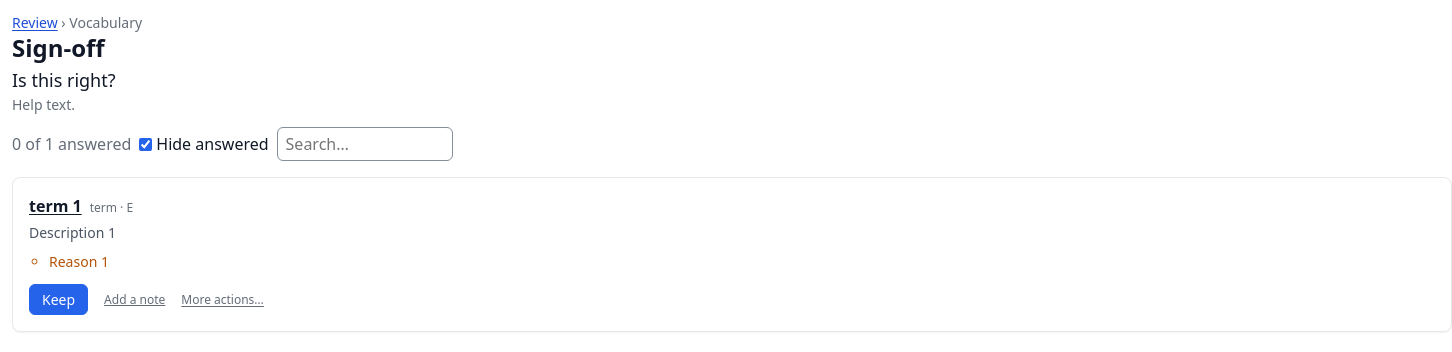
review type page › answer sends the exact draft; the note replaces the rationale
Expected: the link "term 1" is shown, [29,195,82,217]
Click the button "Add a note" at coordinates (135, 300), box [104,290,165,308]
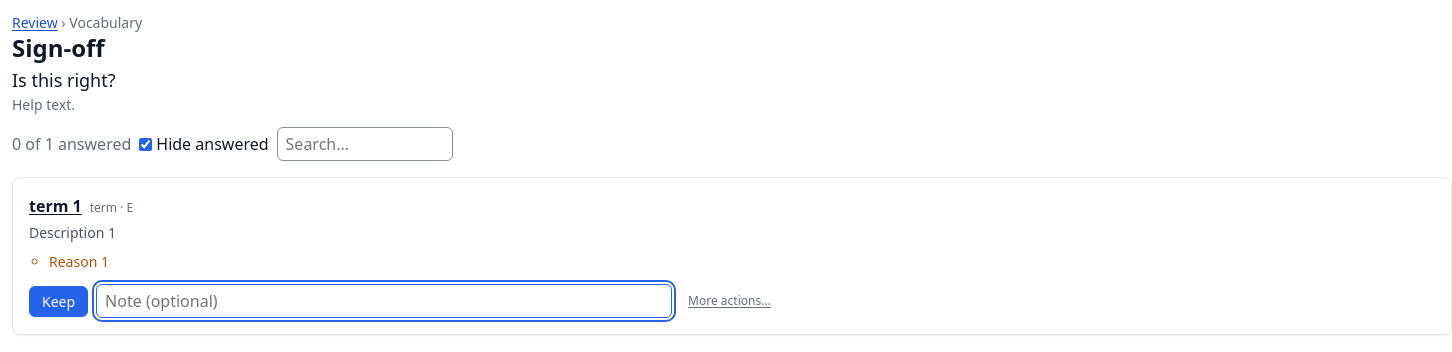
Type "Because." into the field labelled "Note" at coordinates (384, 301), box [96,284,672,318]
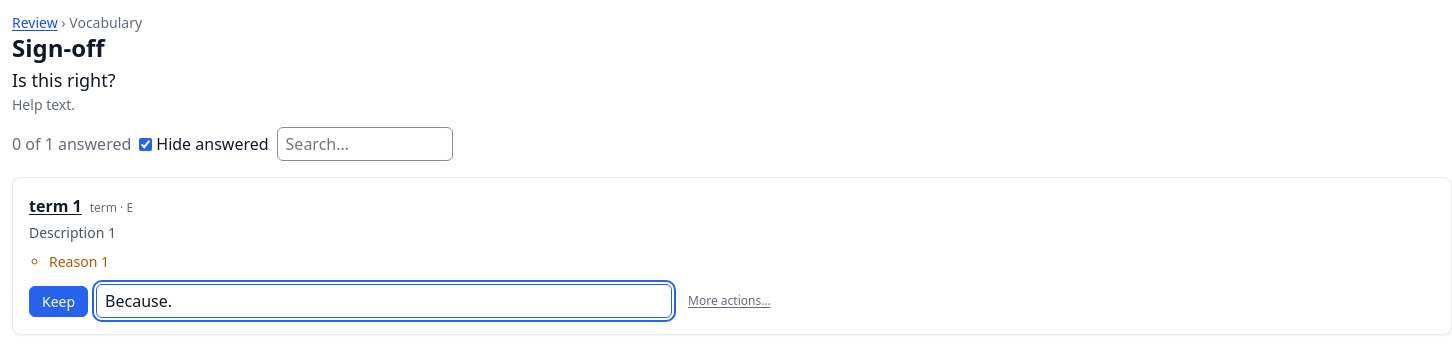
Click the button "Keep" at coordinates (59, 301), box [29,286,88,316]
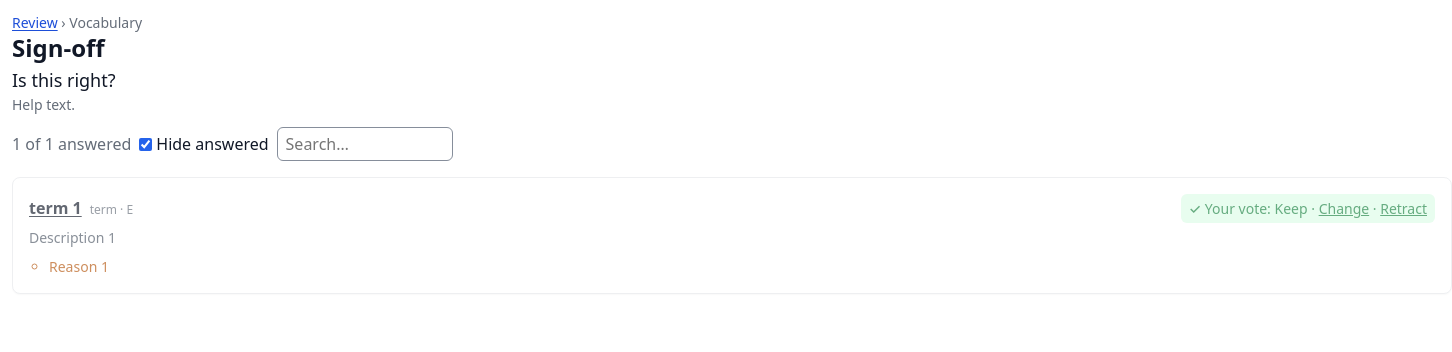
Now the text "✓ Your vote: Keep · Change · Retract" is shown, box [1181,194,1435,223]
Now the button "Retract" is shown, box [1380,198,1427,219]
